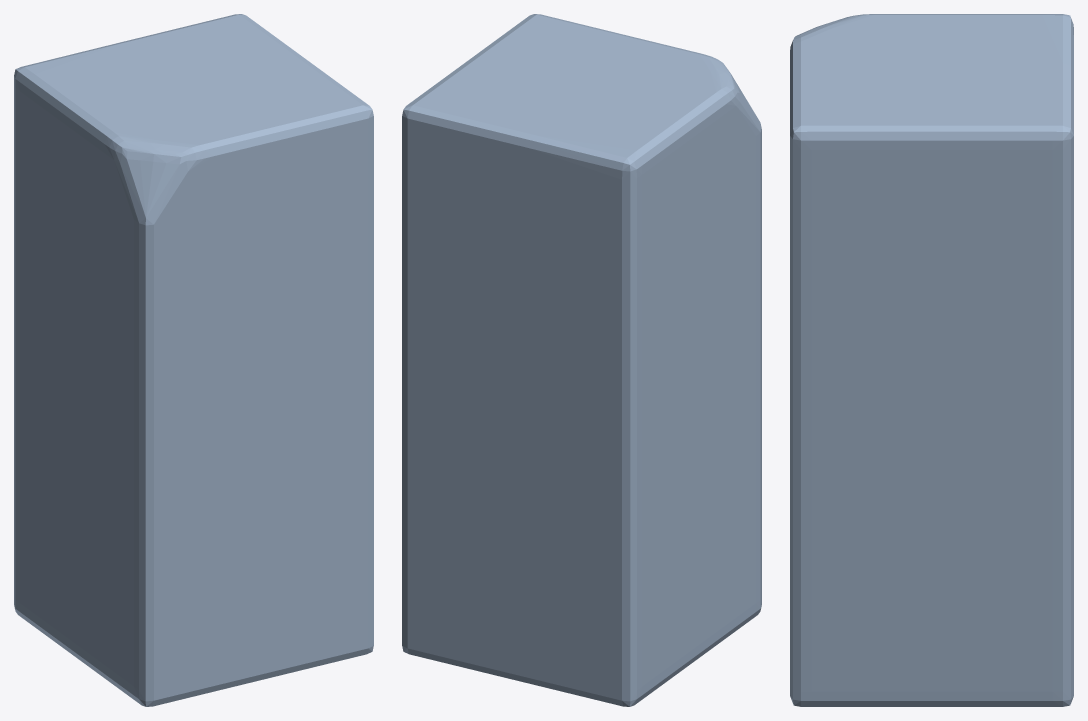
The model's file is right_hip_roll_link_part_6.obj.
The picture shows the model from 3 angles, left to right: view 1: azimuth 30°, elevation 25°; view 2: azimuth 150°, elevation 25°; view 3: azimuth 270°, elevation 25°; orthographic projection. The views are drawn at different scales.
Bounding box in the file's own units: 0.0336 × 0.0752 × 0.0334.
